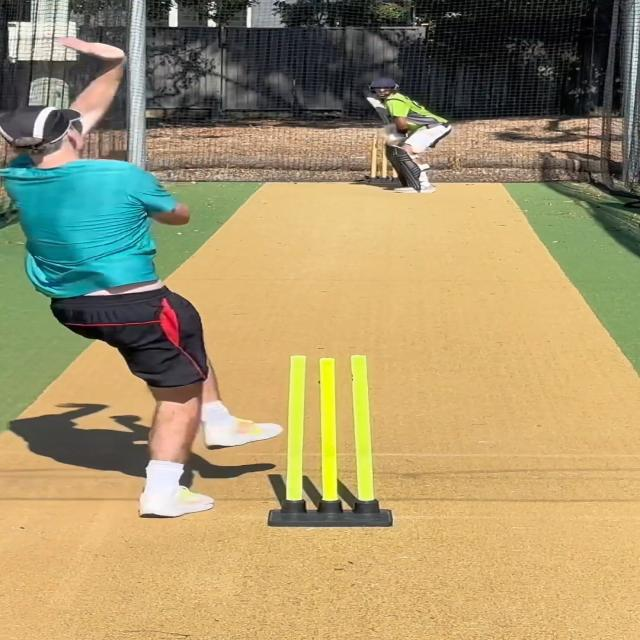stump: (264, 351, 396, 528)
